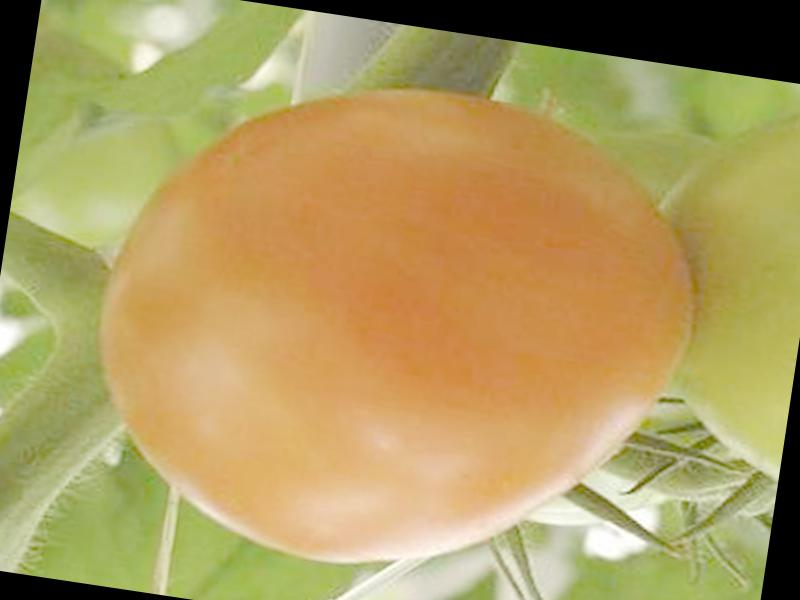Tomato: (70, 47, 717, 600)
